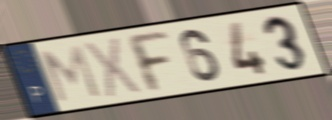3: (262, 12, 315, 75)
4: (229, 19, 268, 78)
6: (179, 27, 222, 84)
F: (121, 29, 174, 96)
M: (37, 43, 104, 105)
X: (82, 35, 144, 101)
